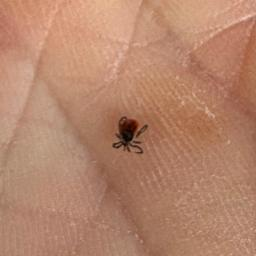Ixodes scapularis: (112, 117, 147, 154)
